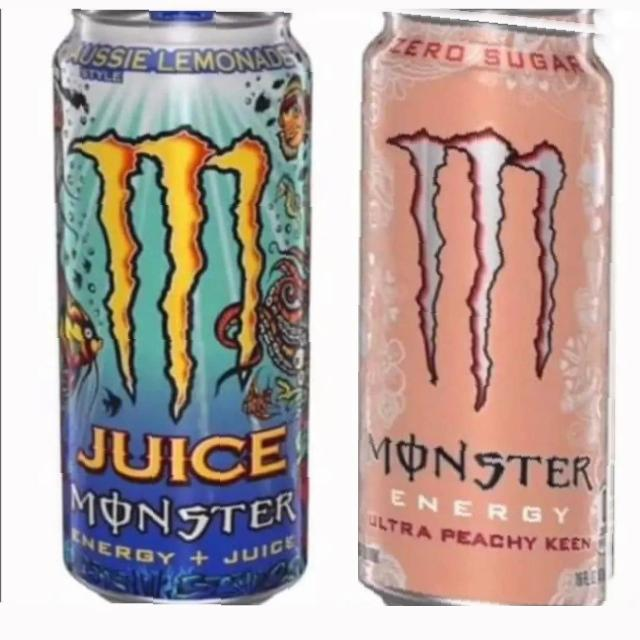Cans: (47, 0, 316, 606), (358, 0, 620, 606)
